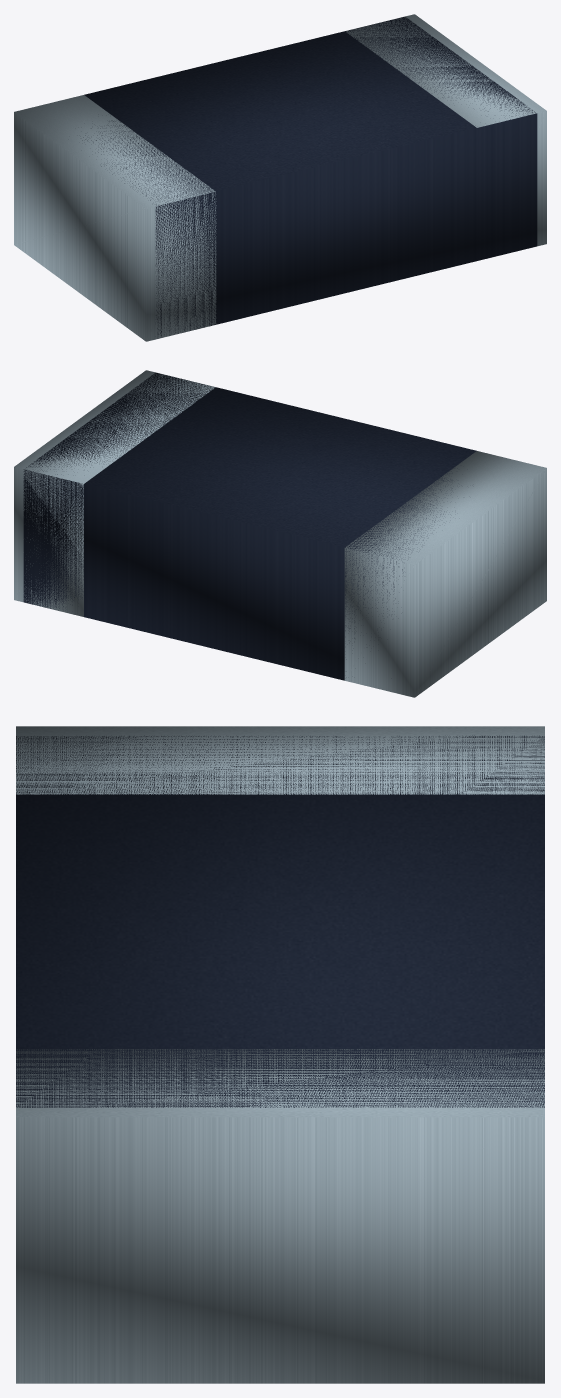
3 views of the same model, one above another, from view 1: azimuth 30°, elevation 25°; view 2: azimuth 150°, elevation 25°; view 3: azimuth 270°, elevation 25° (orthographic). The views are drawn at different scales.
Parts seen in each view (by area): view 1: Diode_Mold_0__PSMAT__IC_Epoxy, Diode_End_1__PSMAT__Tin_Leads, Diode_End_2__PSMAT__Tin_Leads; view 2: Diode_Mold_0__PSMAT__IC_Epoxy, Diode_End_1__PSMAT__Tin_Leads, Diode_End_2__PSMAT__Tin_Leads; view 3: Diode_Mold_0__PSMAT__IC_Epoxy, Diode_End_2__PSMAT__Tin_Leads, Diode_End_1__PSMAT__Tin_Leads.
Boxes of the visible parts, x1,y1,x2,y2 form: Diode_Mold_0__PSMAT__IC_Epoxy: [82, 16, 537, 338]; Diode_End_1__PSMAT__Tin_Leads: [14, 95, 216, 341]; Diode_End_2__PSMAT__Tin_Leads: [345, 14, 546, 246]; Diode_Mold_0__PSMAT__IC_Epoxy: [23, 372, 476, 680]; Diode_End_1__PSMAT__Tin_Leads: [344, 451, 546, 697]; Diode_End_2__PSMAT__Tin_Leads: [14, 370, 215, 616]; Diode_Mold_0__PSMAT__IC_Epoxy: [16, 735, 544, 1107]; Diode_End_2__PSMAT__Tin_Leads: [16, 1049, 544, 1383]; Diode_End_1__PSMAT__Tin_Leads: [16, 726, 544, 794].
Size of the model in its own units: 0.00315 by 0.001 by 0.0018.
